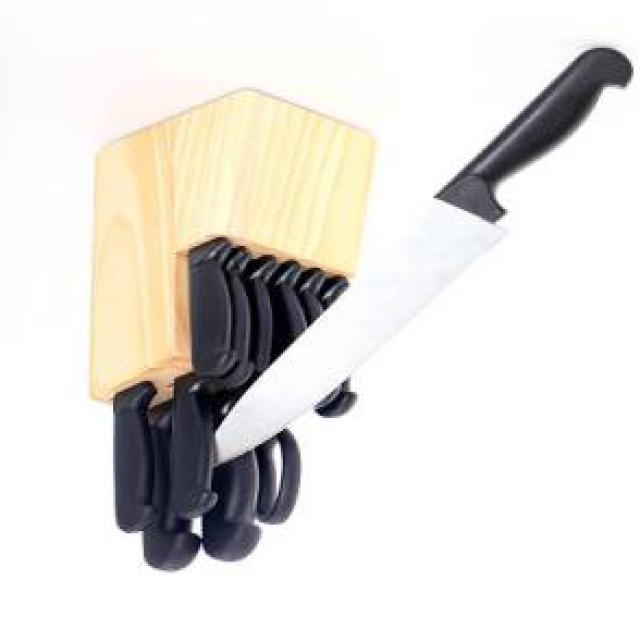knife: (200, 45, 636, 468)
